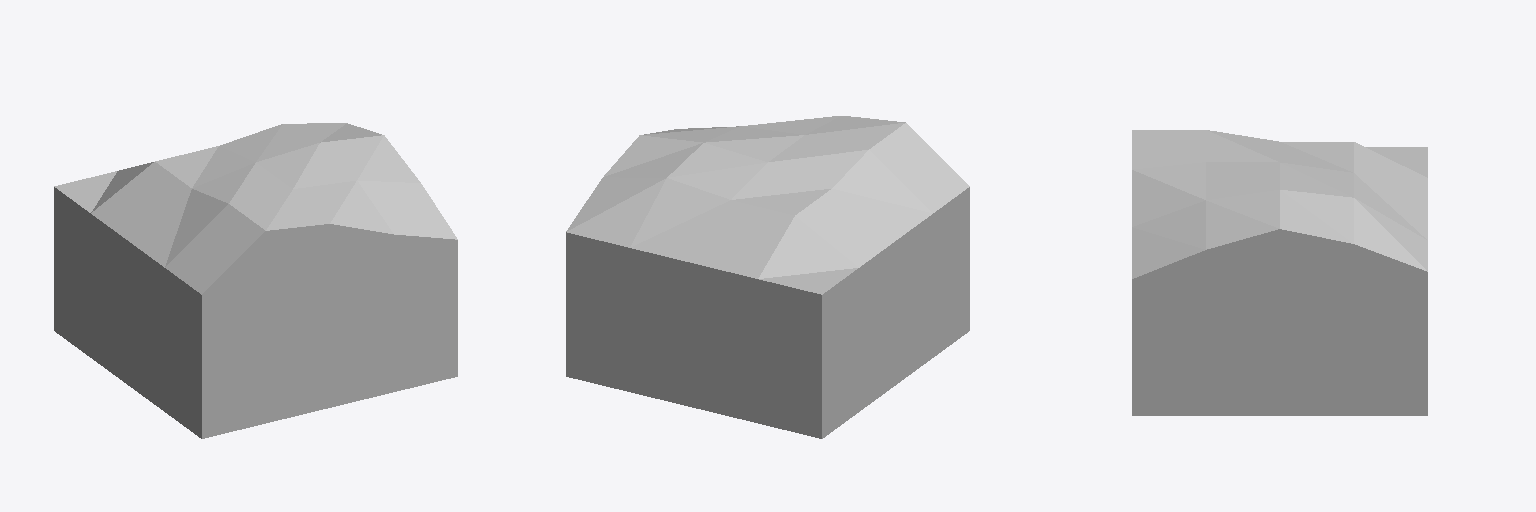
Rendered from half-cube.obj.
3 renders of one model, left to right at view 1: azimuth 30°, elevation 25°; view 2: azimuth 150°, elevation 25°; view 3: azimuth 270°, elevation 25°, orthographic.
Parts seen in each view (by area): view 1: Cube; view 2: Cube; view 3: Cube.
Boxes of the visible parts, box(x1,y1,x2,y2) form: Cube: box(54, 123, 457, 438); Cube: box(566, 116, 969, 438); Cube: box(1132, 130, 1427, 415).
Bounding box in the file's own units: 1 × 0.7281 × 1.